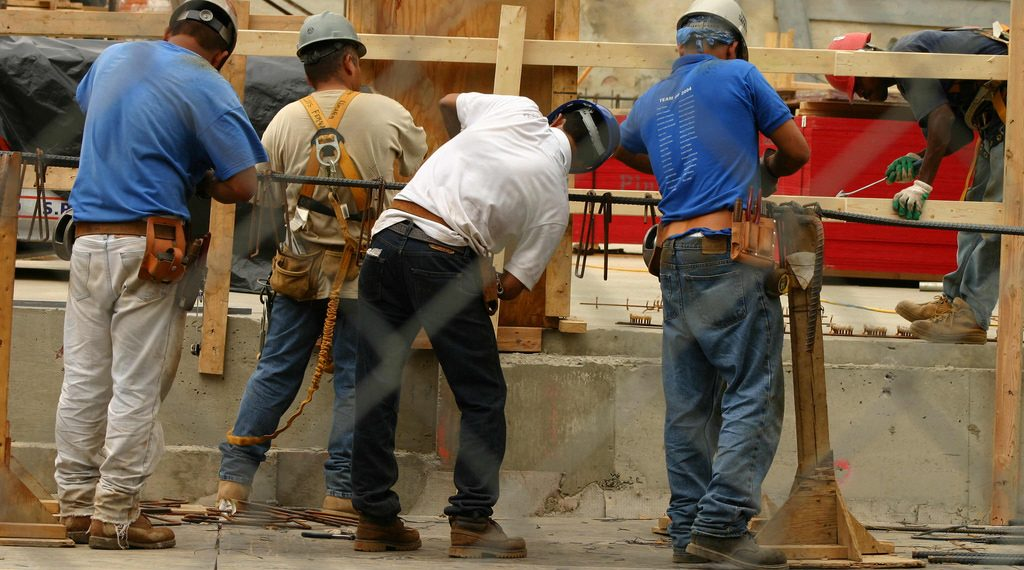casco: (548, 98, 621, 176), (674, 1, 751, 61), (167, 1, 239, 56), (823, 30, 873, 103), (296, 10, 368, 60)
